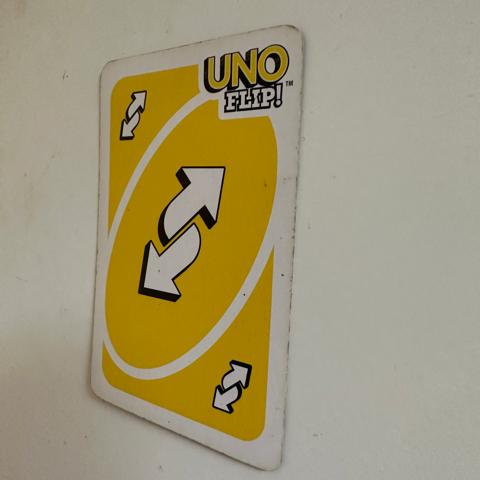draw2_yellow: (133, 161, 229, 308), (209, 357, 253, 420), (115, 80, 152, 145)
